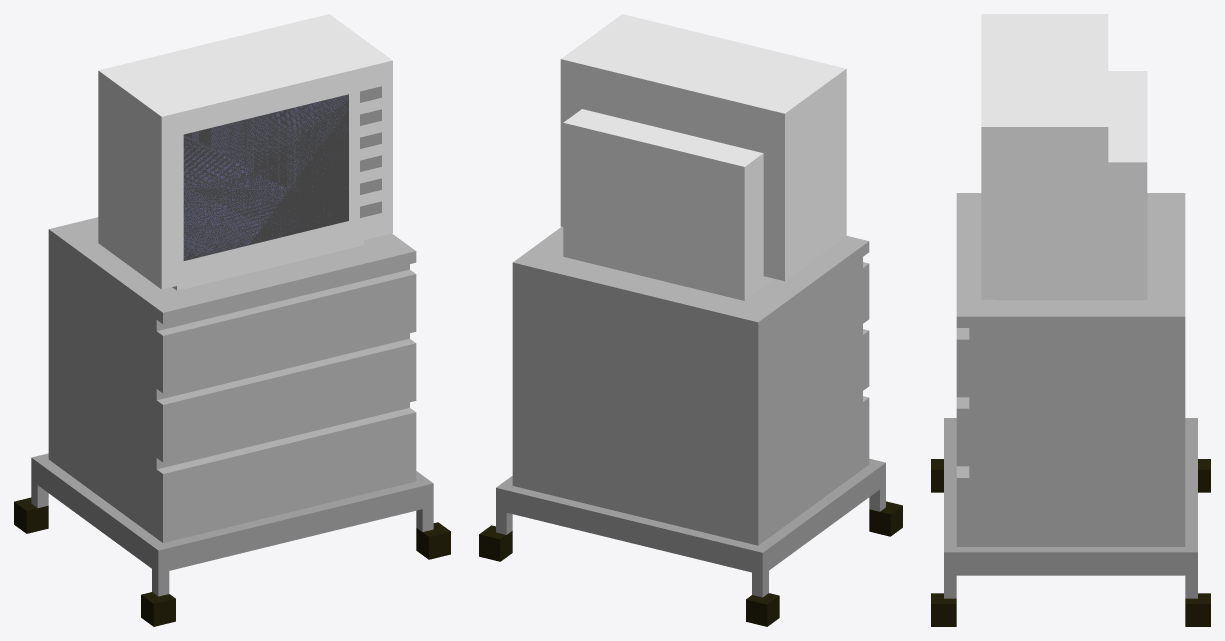
File: Operating room Equip2.fbx
3 views of the same model, side by side, from view 1: azimuth 30°, elevation 25°; view 2: azimuth 150°, elevation 25°; view 3: azimuth 270°, elevation 25° (orthographic). The views are drawn at different scales.
Parts seen in each view (by area): view 1: Operating room Equip2.001, Operating room Equip2.003, Operating room Equip2, Operating room Equip2.002; view 2: Operating room Equip2.001, Operating room Equip2.003; view 3: Operating room Equip2.001, Operating room Equip2.003.
Boxes of the visible parts, x1,y1,x2,y2 form: Operating room Equip2.001: (14, 217, 450, 626); Operating room Equip2.003: (98, 14, 392, 289); Operating room Equip2: (183, 94, 348, 260); Operating room Equip2.002: (183, 95, 348, 260); Operating room Equip2.001: (479, 109, 902, 626); Operating room Equip2.003: (560, 14, 846, 281); Operating room Equip2.001: (931, 71, 1210, 626); Operating room Equip2.003: (981, 14, 1108, 299).
Size of the model in its own units: 2.7 by 4.2 by 2.2.
